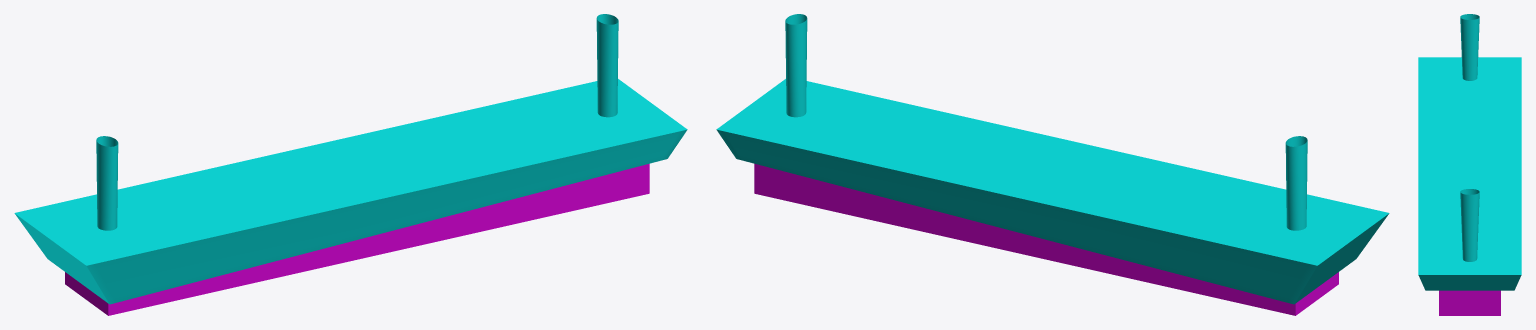
Rendered from Hanging Light.fbx.
3 views of the same model, side by side, from view 1: azimuth 30°, elevation 25°; view 2: azimuth 150°, elevation 25°; view 3: azimuth 270°, elevation 25° (orthographic). The views are drawn at different scales.
Visible parts, largest first — view 1: base, light, hangers; view 2: base, light, hangers; view 3: base, hangers, light.
Part boxes in pixels (box(x1,y1,x2,y2)): base: box(14, 79, 687, 304); light: box(65, 163, 649, 315); hangers: box(96, 14, 618, 230); base: box(716, 79, 1389, 304); light: box(754, 163, 1338, 315); hangers: box(785, 14, 1307, 230); base: box(1418, 57, 1521, 290); hangers: box(1460, 14, 1479, 261); light: box(1439, 290, 1500, 315).
Size of the model in its own units: 8 by 2.08 by 1.66.
